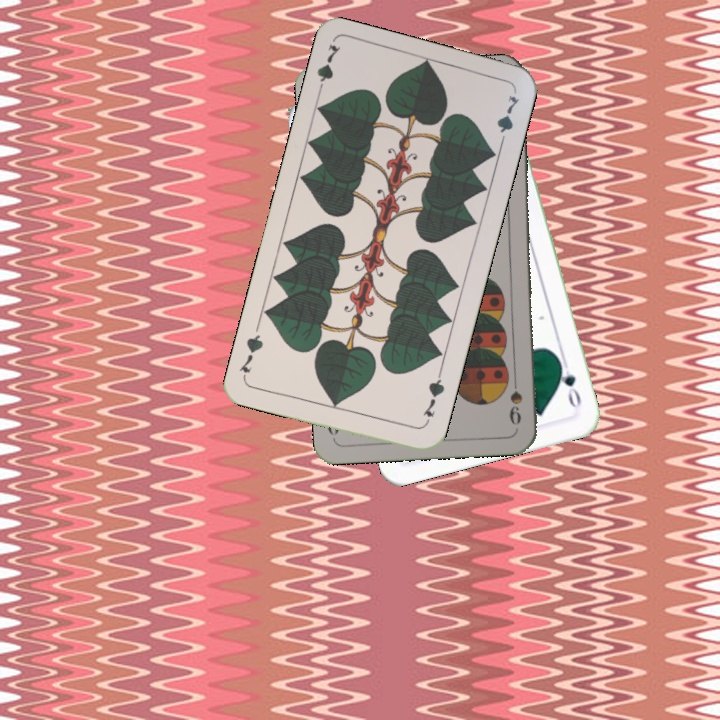G7: (312, 40, 343, 99), (418, 369, 447, 428)
GO: (554, 356, 584, 413)
S9: (505, 369, 525, 427)
